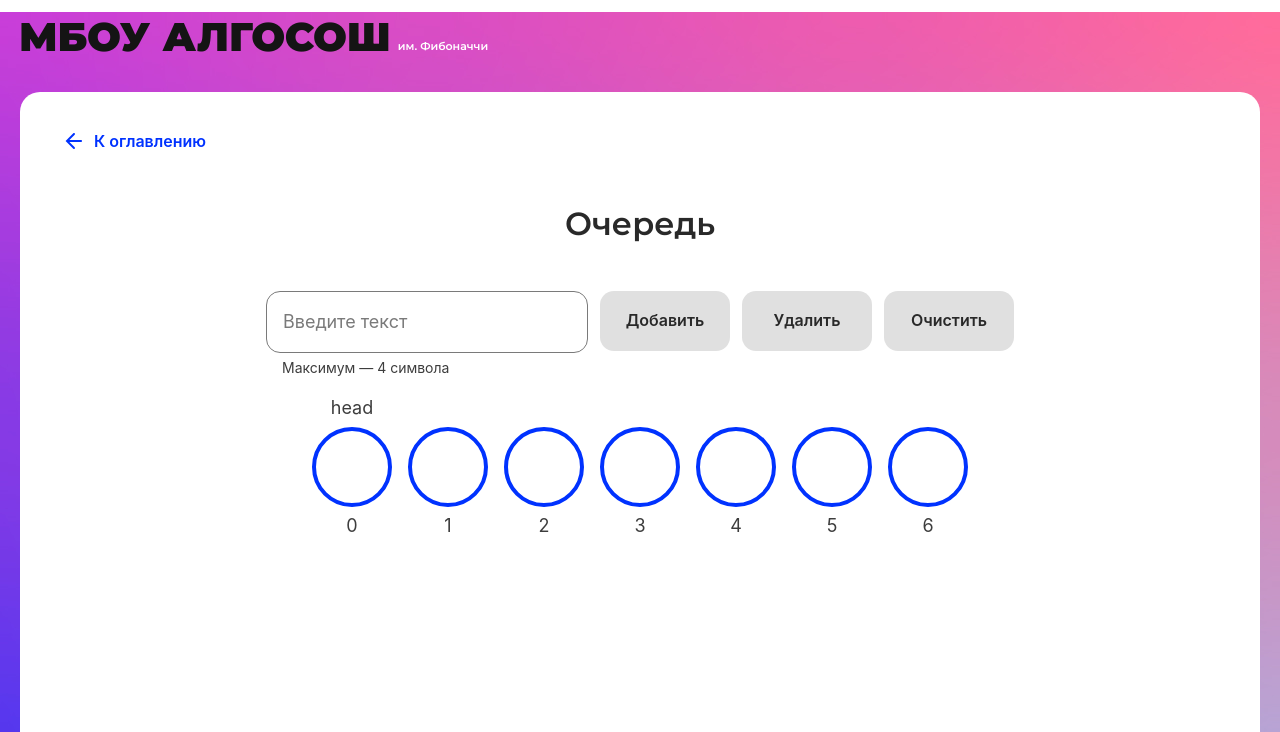
Scenario: Страница очереди › правильное удаление элемента из очереди
This screenshot has width=1280, height=732.
Type "I1" into the field with placeholder "Введите текст" at (427, 322), box [266,291,588,353]
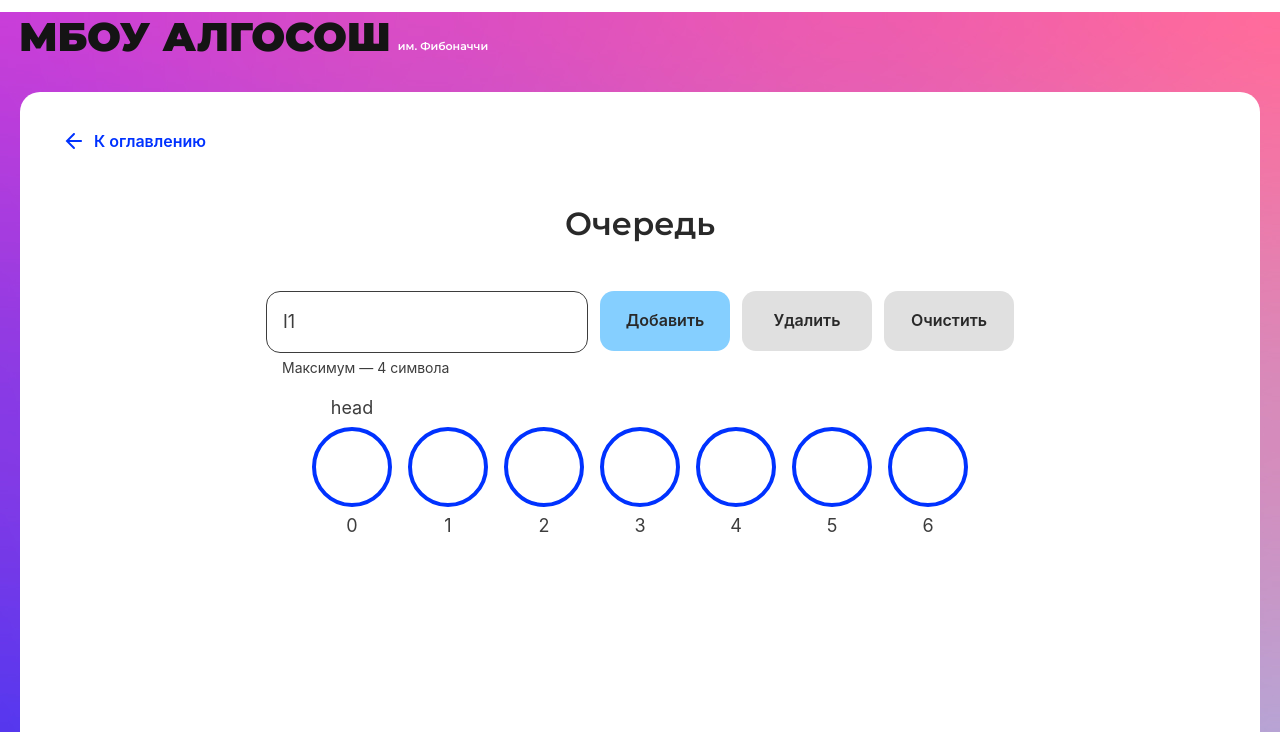
Click the button "Добавить" at (665, 321), box [600,291,730,351]
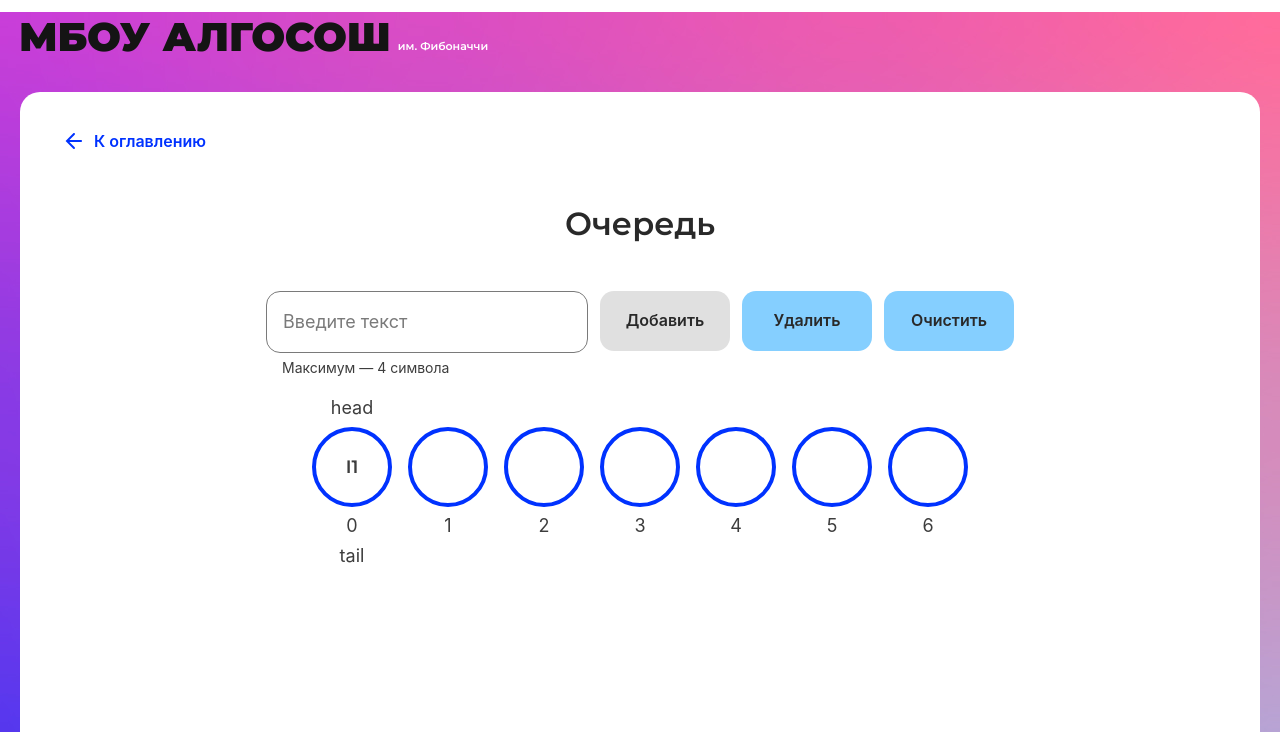
Click the button "Удалить" at (807, 321), box [742,291,872,351]
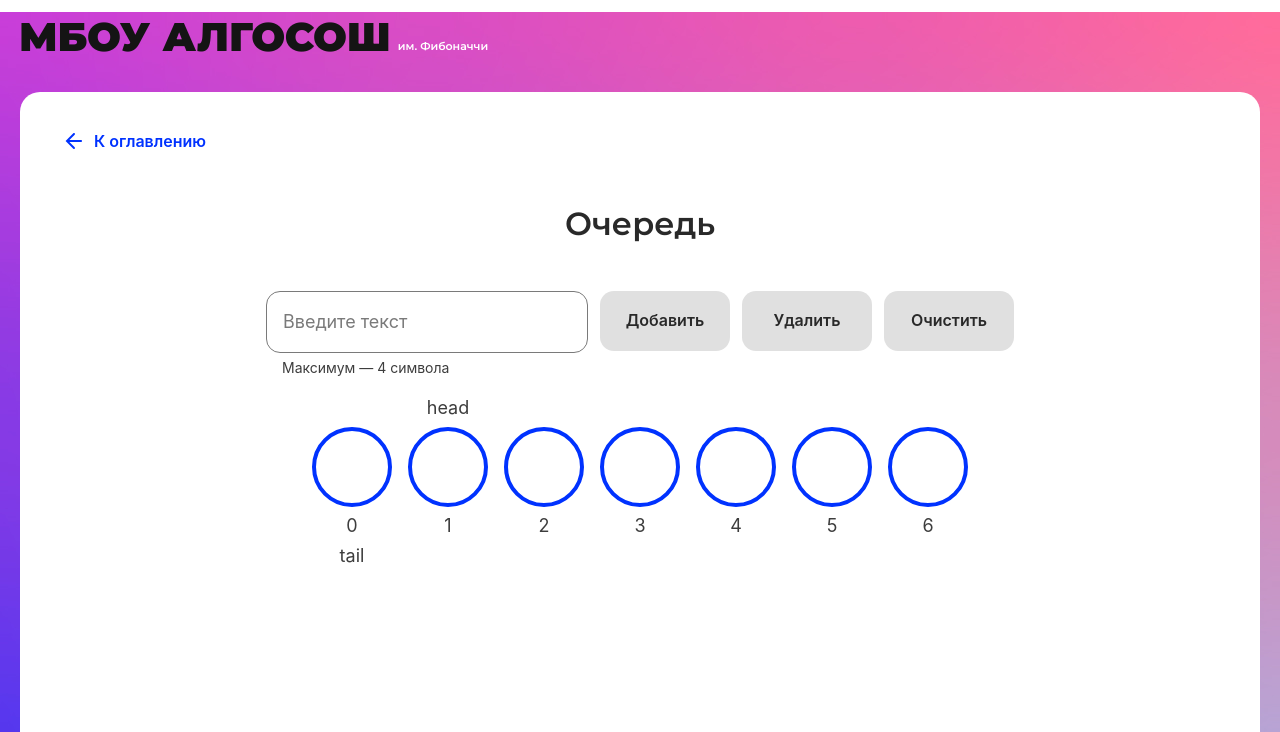
expect the element showing "0 tail" is shown: met, box [312,427,392,507]
expect the text "I1" is gone: met
expect the text "head" is gone: met
